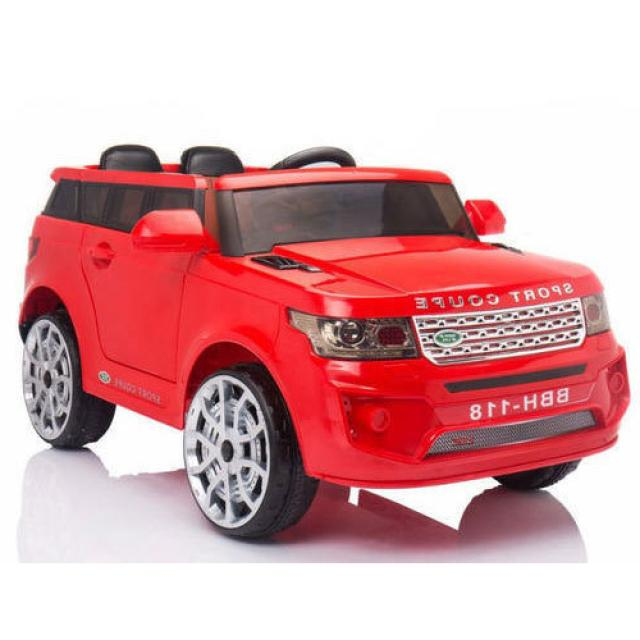Car: (18, 142, 632, 540)
